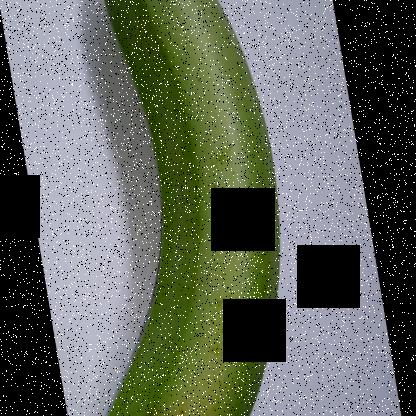freshunripe: (84, 0, 295, 415)
